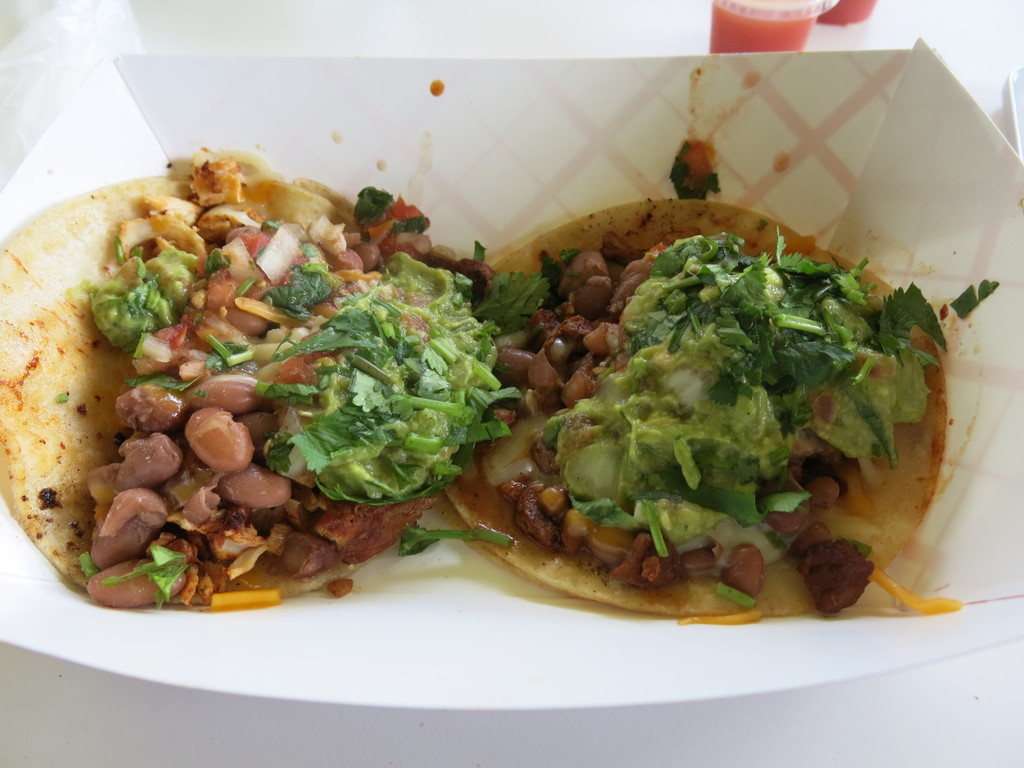taco: (0, 140, 541, 620), (412, 197, 947, 620)
